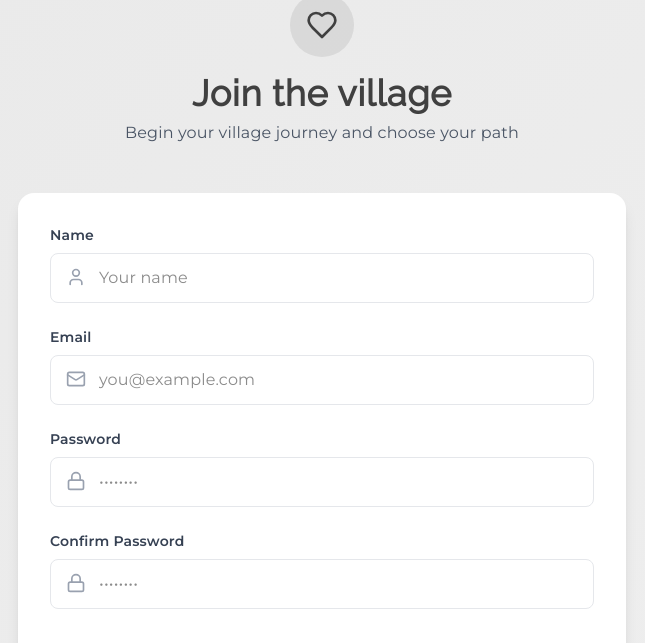
Test: Register › speaks a registration the server turned down, not just paints it red
Type "Rye" into the field labelled "Name". click: (322, 278)
box: [50, 253, 594, 303]
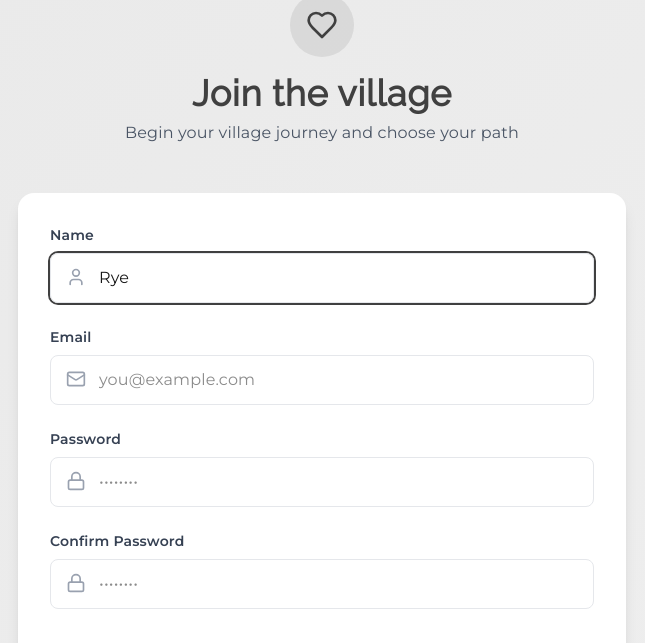
Type "rye@example.com" into the field labelled "Email". click: (322, 380)
box: [50, 355, 594, 405]
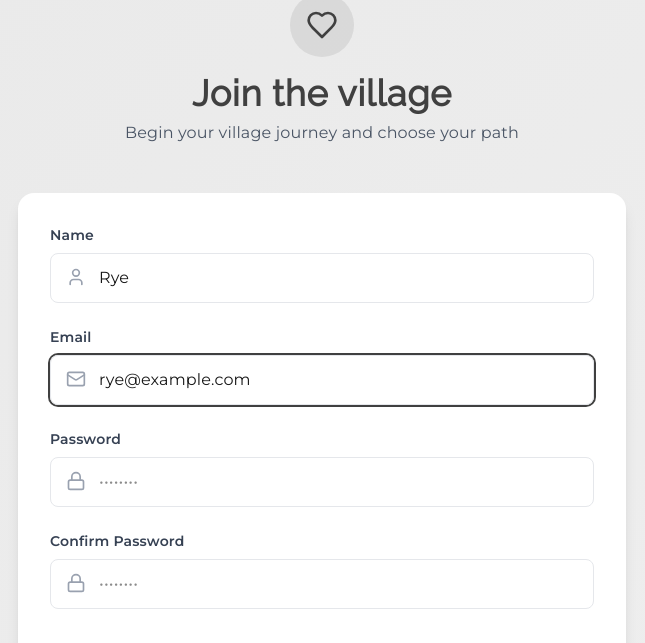
Type "hunter2" into the password field labelled "Password". click: (322, 482)
box: [50, 457, 594, 507]
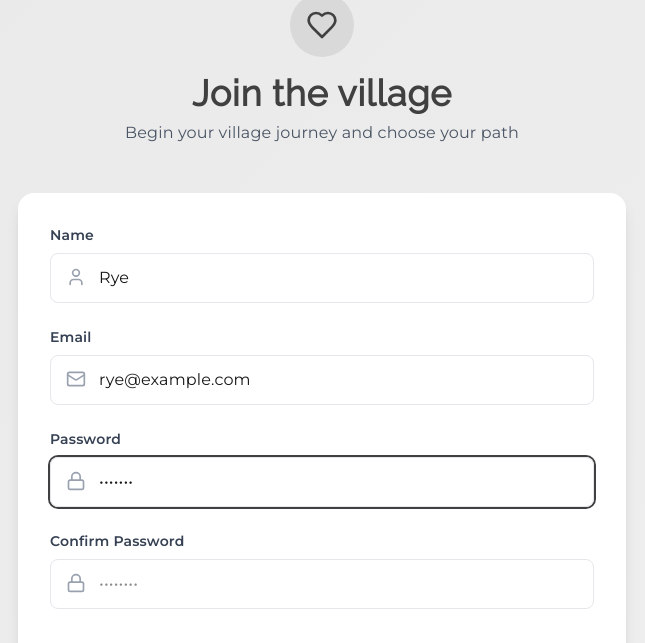
Type "hunter2" into the password field labelled "Confirm Password". click: (322, 584)
box: [50, 559, 594, 609]
(page scrolled)
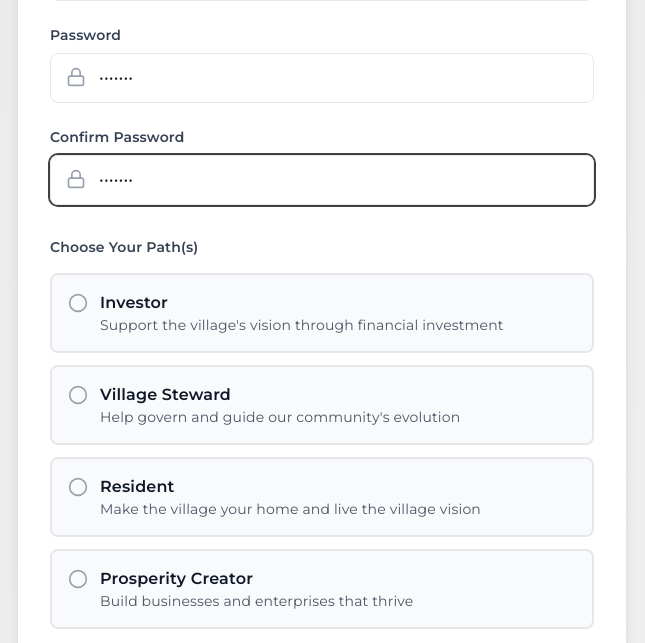
Click the button "Investor". click: (322, 313)
box: [50, 273, 594, 353]
(page scrolled)
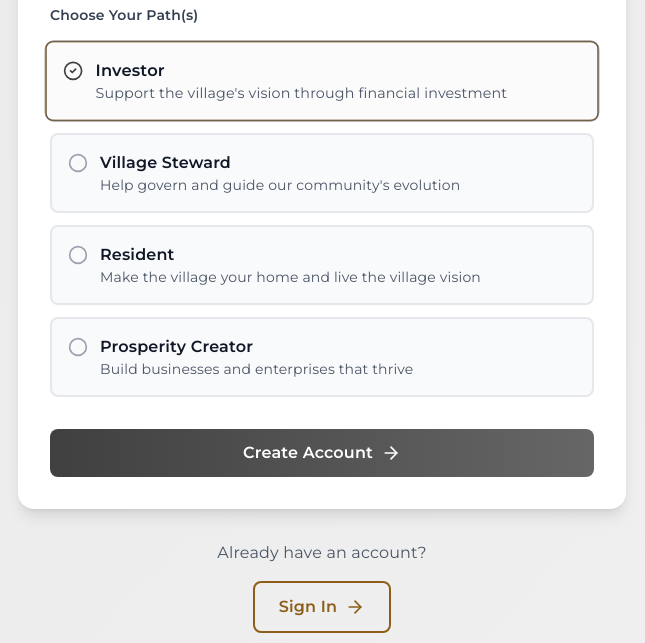
Click the button "Create Account". click: (322, 453)
box: [50, 429, 594, 477]
(page scrolled)
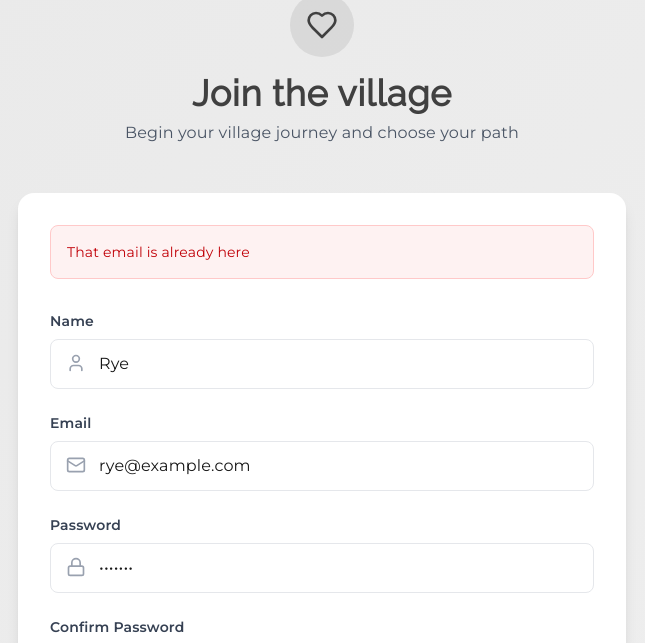
Result: the message shows "already here" at [67, 243, 250, 261]
